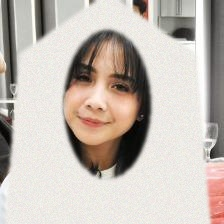Mukena: (0, 29, 216, 224)
